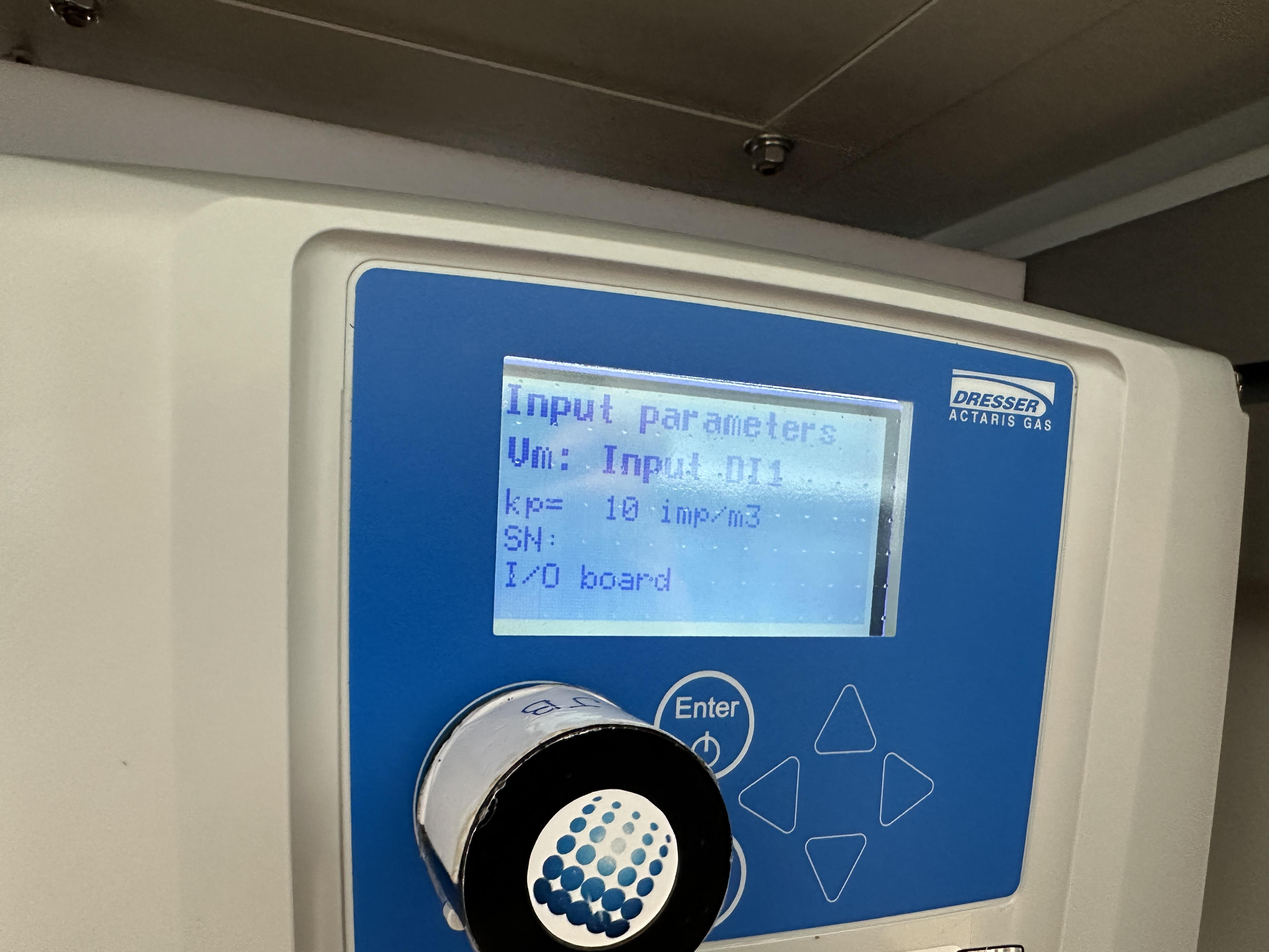digital_screen: (494, 376, 888, 648)
